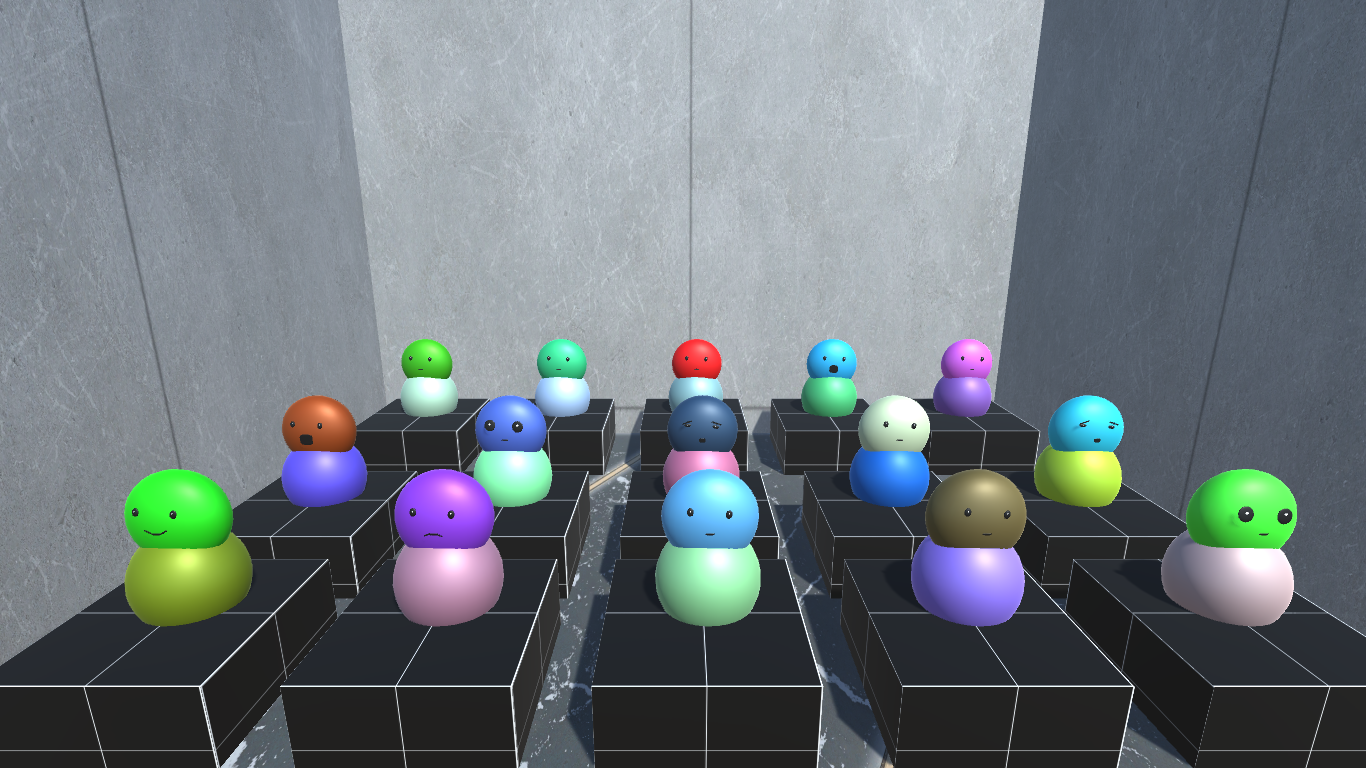blob_atento: (1183, 465, 1308, 551), (469, 395, 552, 453)
blob_entediado: (665, 395, 743, 462), (1044, 390, 1125, 453)
blob_feliz: (120, 467, 236, 563)
blob_normal: (655, 468, 768, 553), (917, 467, 1028, 549), (855, 390, 935, 450), (662, 333, 721, 381), (396, 337, 458, 379), (935, 336, 993, 377), (536, 333, 585, 381)
blob_surpreso: (280, 399, 360, 454), (805, 336, 858, 384)
blob_triste: (382, 466, 495, 547)
